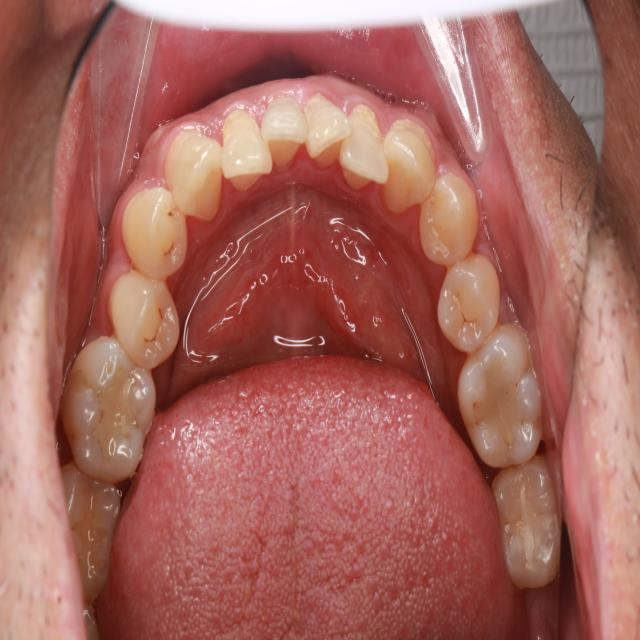tooth: (64, 324, 162, 495), (450, 312, 549, 479), (482, 441, 564, 600), (60, 447, 128, 612), (428, 238, 503, 370), (106, 261, 191, 371), (158, 119, 232, 235), (415, 156, 485, 278), (377, 100, 439, 232), (116, 188, 199, 284), (294, 76, 356, 190), (334, 95, 396, 205), (221, 100, 277, 199), (257, 85, 313, 183)
